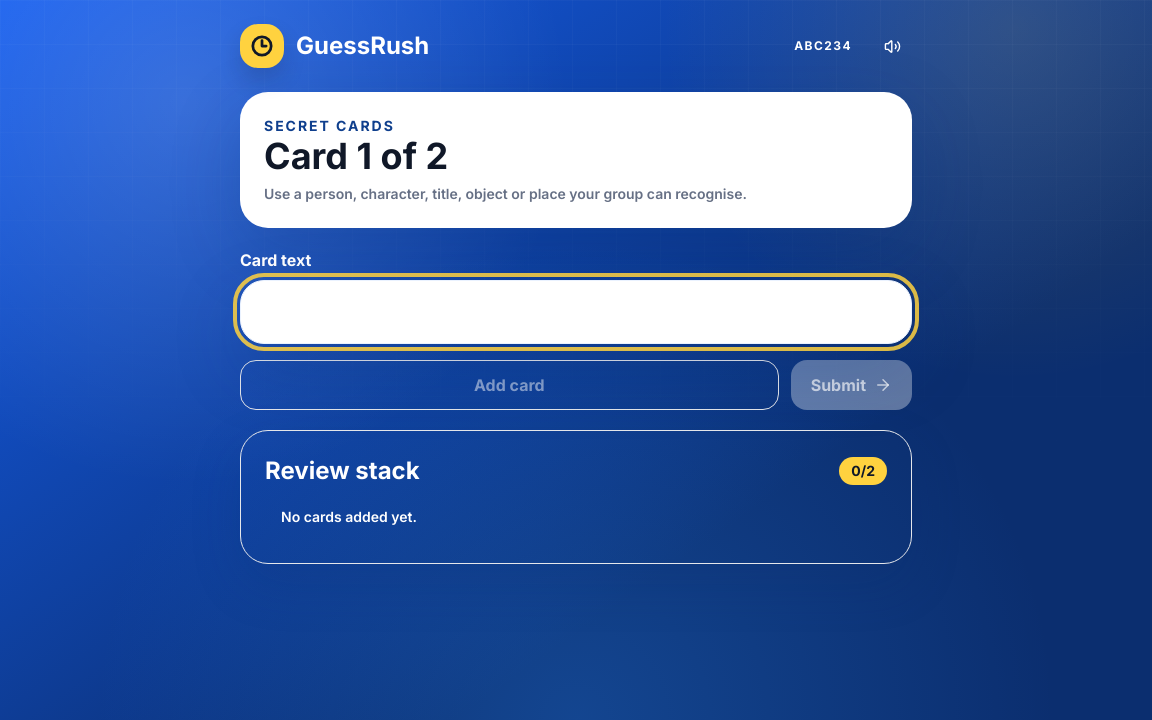
Scenario: CardSubmissionPage › shows exact duplicate card text from the server when available
Check: the heading "Card 1 of 2" is shown, box left=264, top=134, right=448, bottom=178
Type "Moon Pancake" into the field labelled "Card text".
click(576, 312); type("Moon Pancake")  # box left=240, top=280, right=912, bottom=344
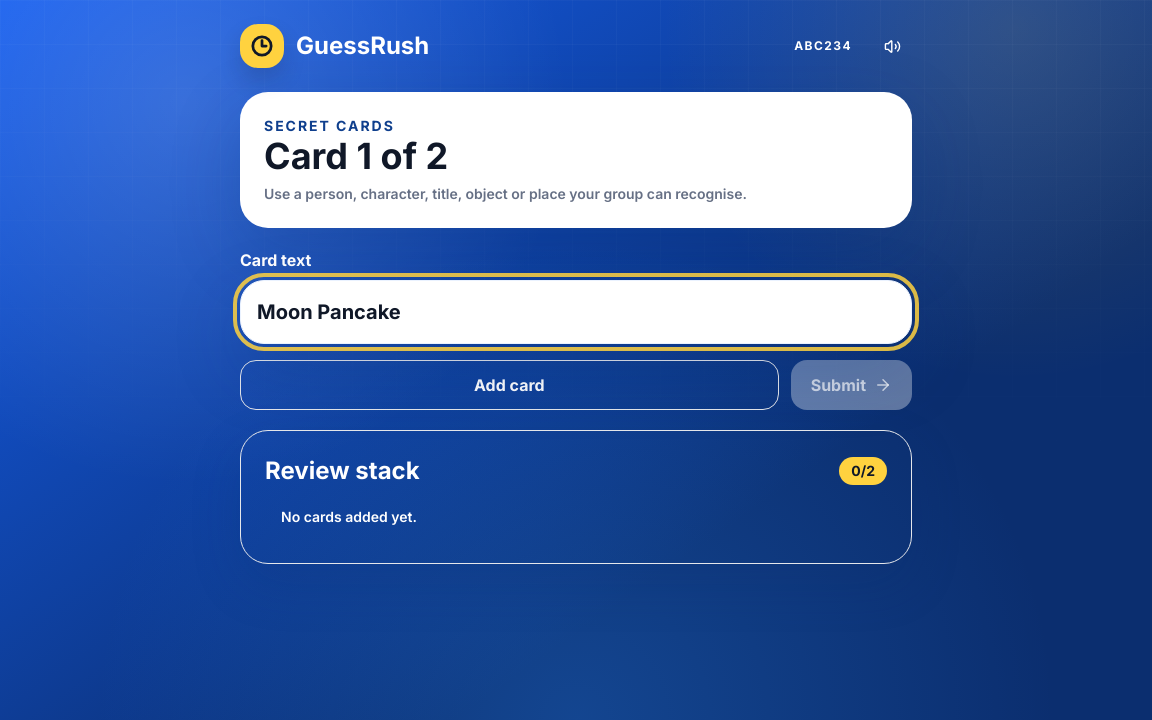
Click the button "Add card".
click(509, 385)  # box left=240, top=360, right=779, bottom=410
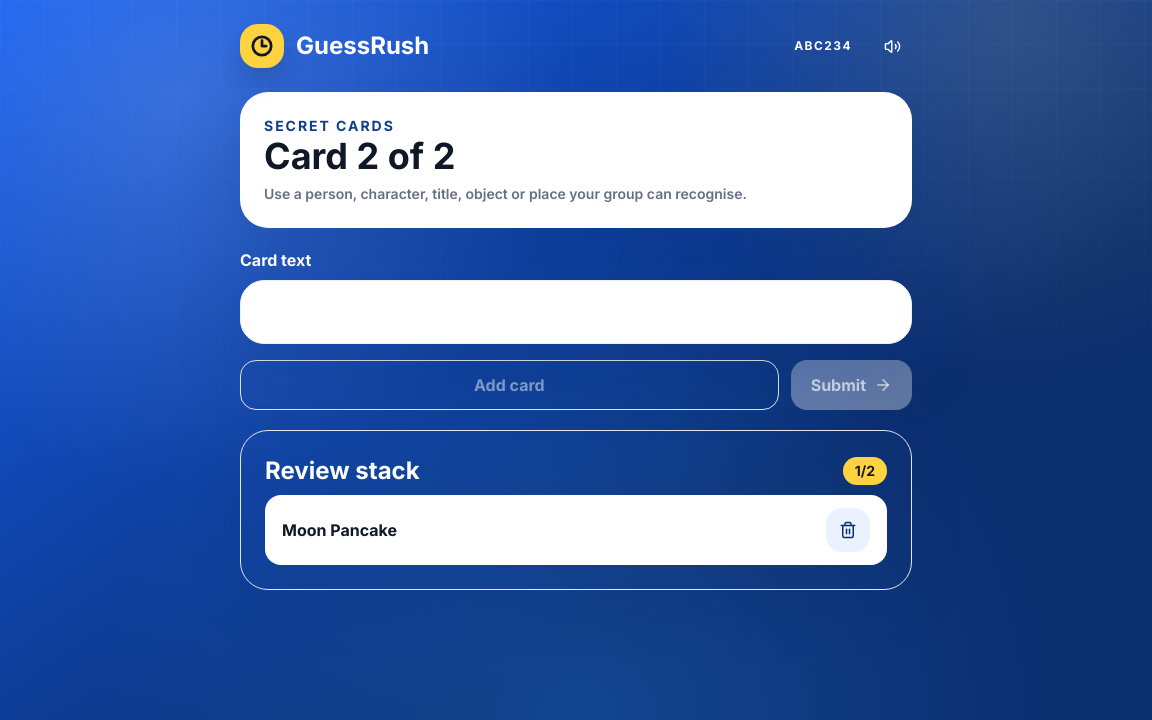
Type "Bubble Museum" into the field labelled "Card text".
click(576, 312); type("Bubble Museum")  # box left=240, top=280, right=912, bottom=344
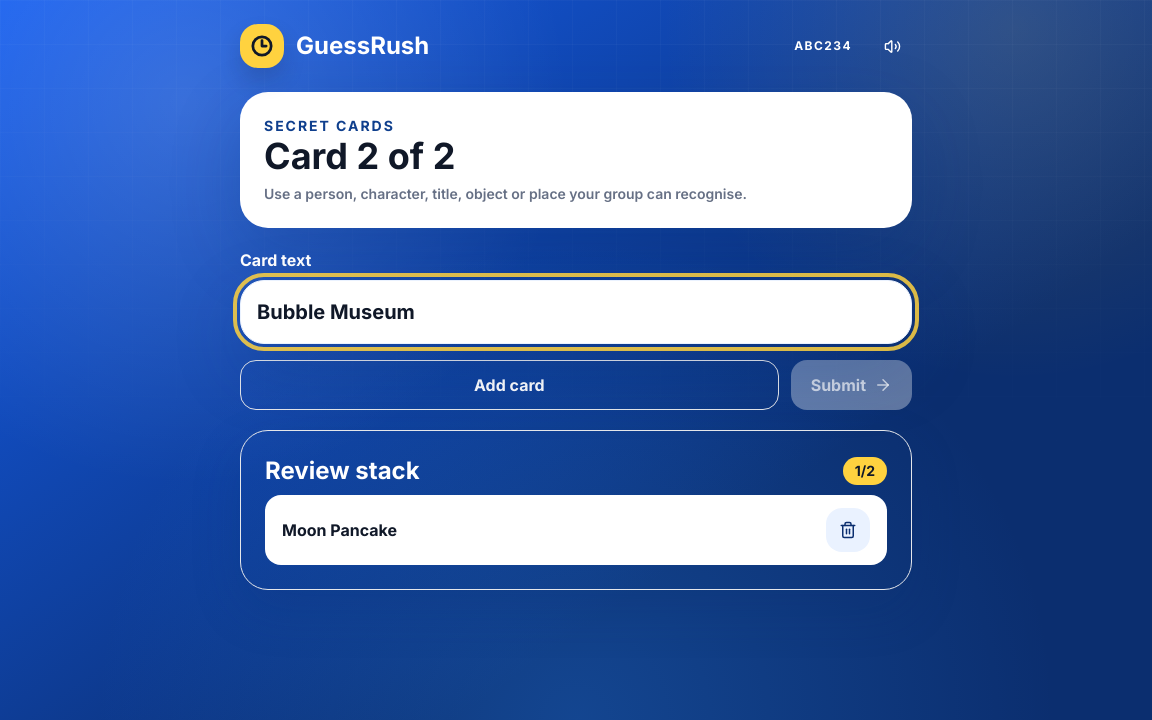
Click the button "Add card".
click(509, 385)  # box left=240, top=360, right=779, bottom=410
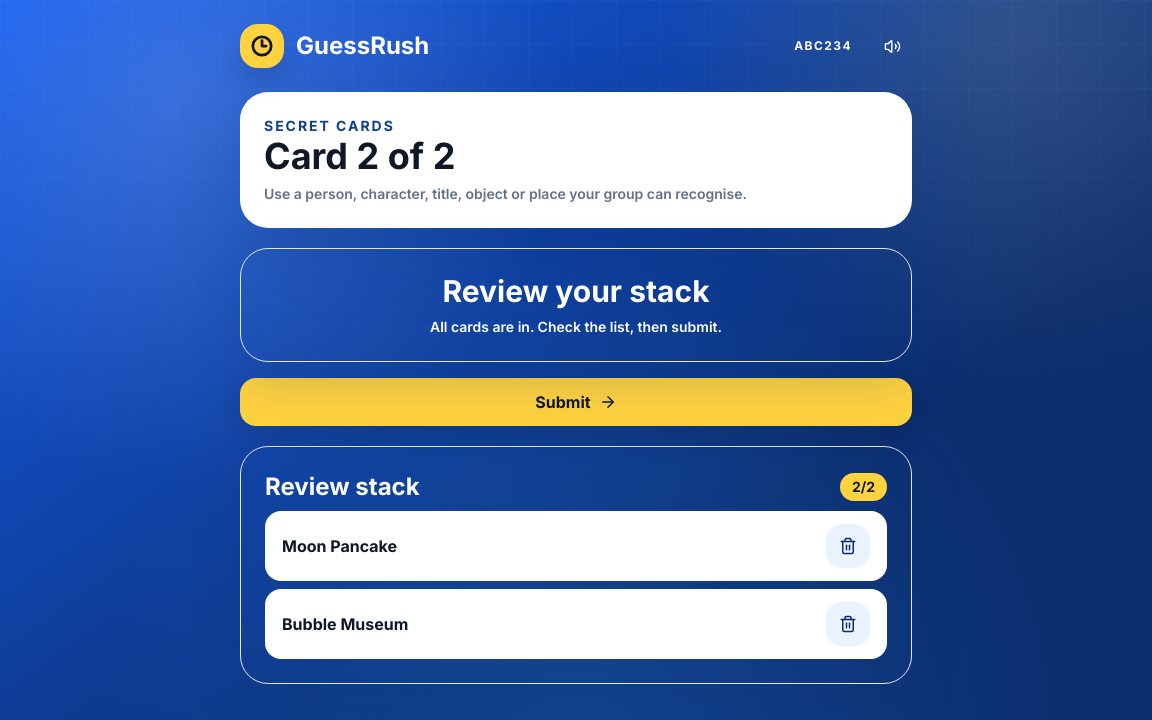
Click the button "Submit".
click(576, 402)  # box left=240, top=378, right=912, bottom=426
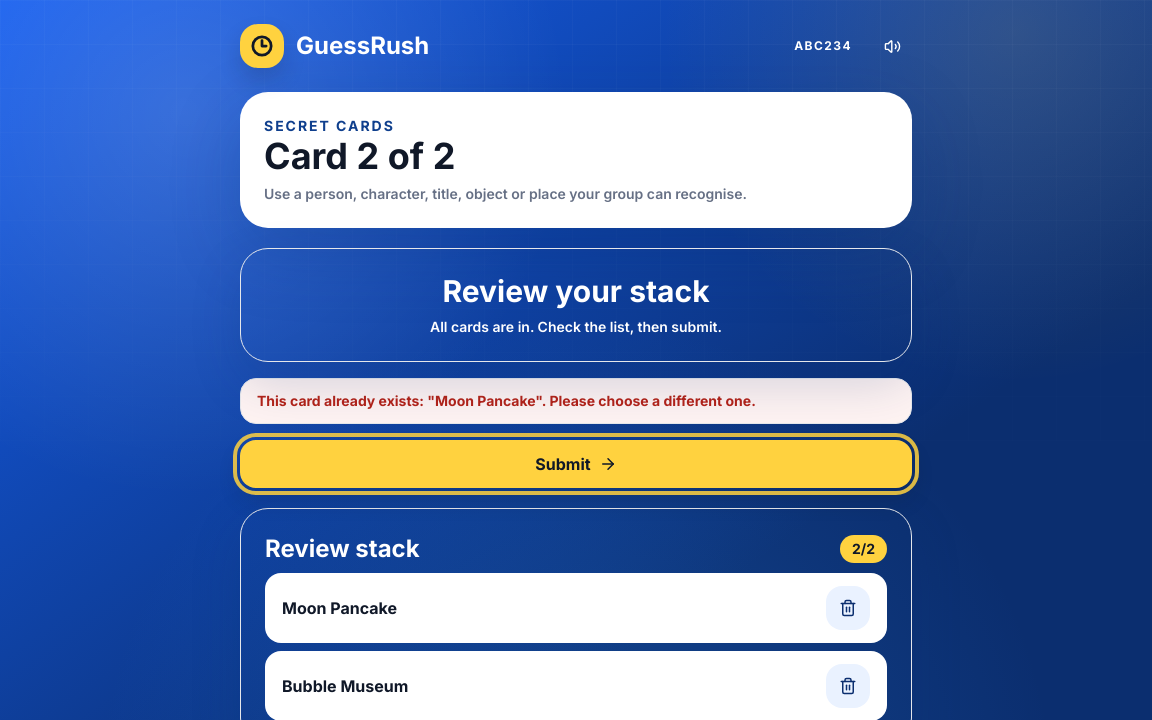
Check: the text "This card already exists: \"Moon Pancake\". Please choose a different one." is shown, box left=240, top=378, right=912, bottom=424
